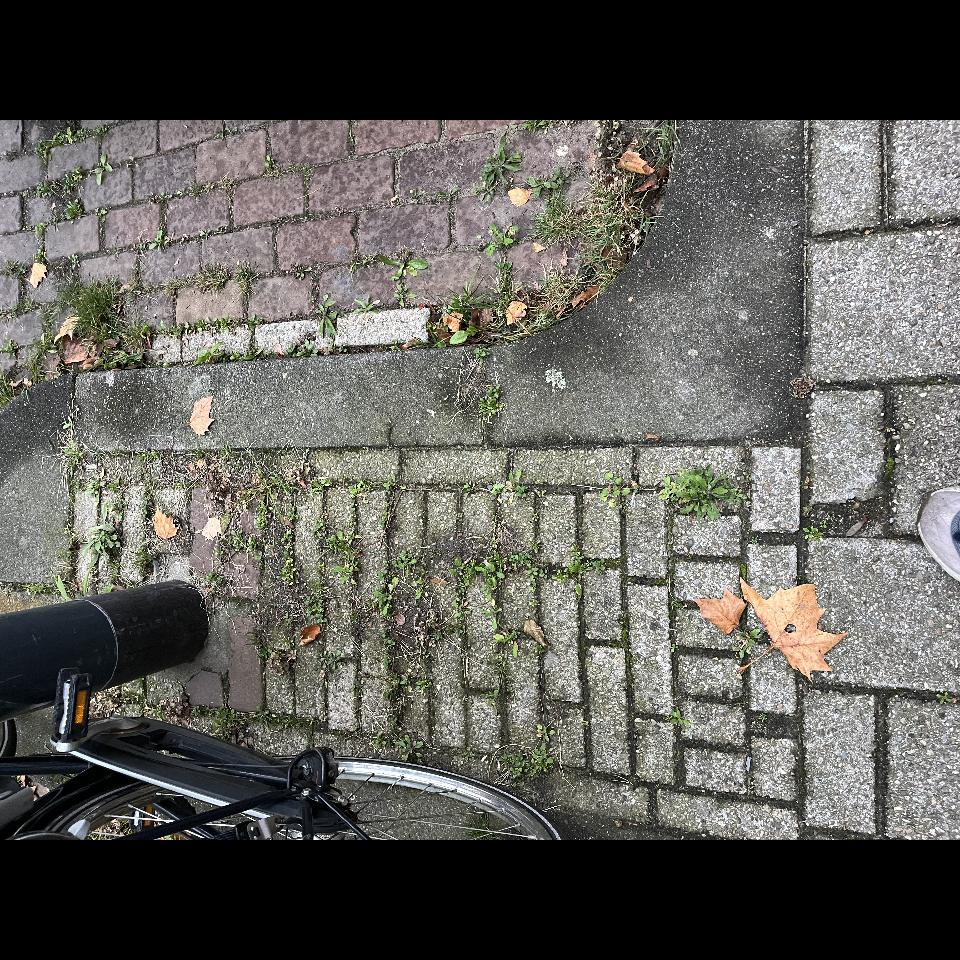weed: (428, 170, 655, 346), (451, 545, 608, 641), (61, 277, 150, 369), (659, 466, 745, 520), (375, 550, 427, 616), (498, 726, 554, 786), (477, 134, 522, 201), (35, 128, 96, 176), (36, 167, 88, 221), (194, 707, 262, 742), (376, 251, 429, 281), (527, 168, 570, 198), (601, 473, 637, 508), (653, 120, 677, 168), (225, 531, 263, 560), (278, 529, 297, 586), (395, 734, 423, 762), (92, 154, 113, 185), (520, 120, 554, 132), (256, 501, 267, 531), (372, 733, 392, 749), (285, 511, 295, 520)
